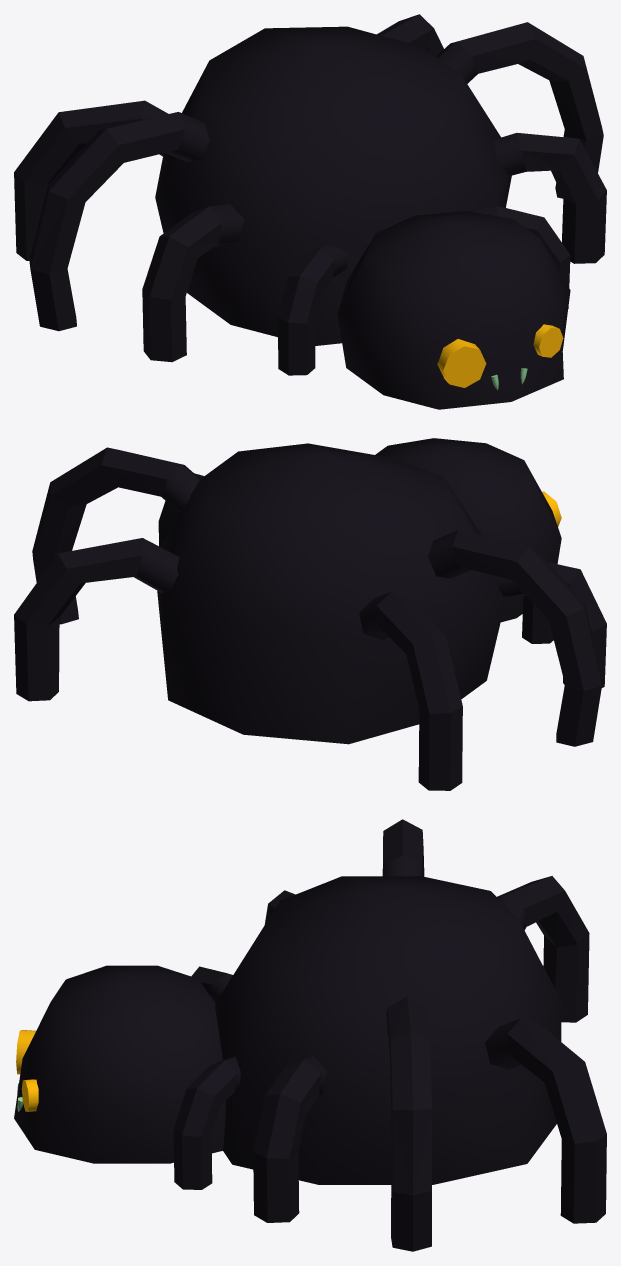
The model's file is Spider01.fbx.
3 renders of one model, top to bottom at view 1: azimuth 30°, elevation 25°; view 2: azimuth 150°, elevation 25°; view 3: azimuth 270°, elevation 25°, orthographic. The views are drawn at different scales.
Visible parts, largest first — view 1: Spider01; view 2: Spider01; view 3: Spider01.
Part boxes in pixels (x1,y1,x2,y2): Spider01: [14, 14, 606, 409]; Spider01: [14, 438, 606, 790]; Spider01: [14, 819, 606, 1251].
Bounding box in the file's own units: 19.57 × 7.28 × 17.03.
